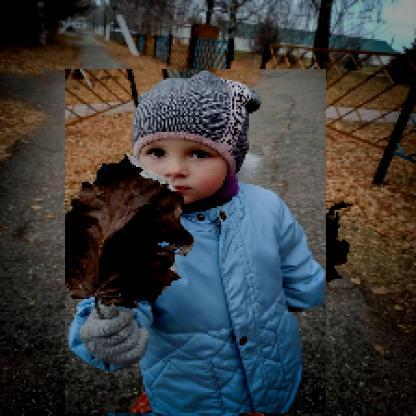child: (66, 70, 328, 415)
